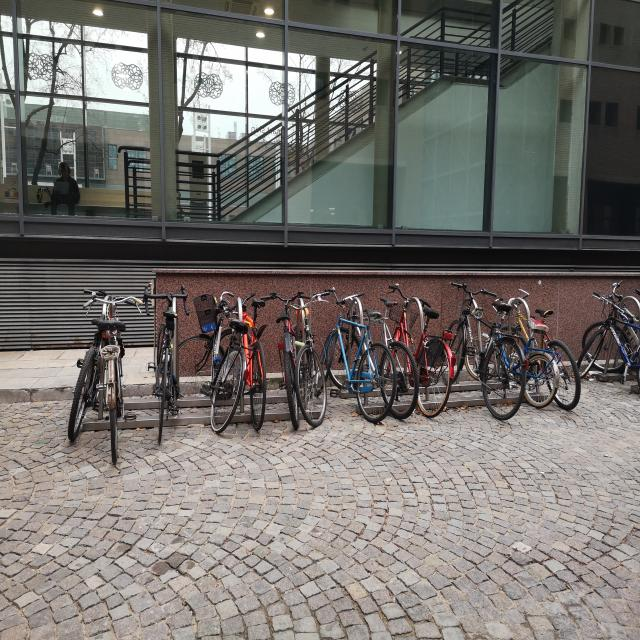Bicycle: (84, 238, 156, 490), (452, 251, 524, 450), (302, 276, 389, 426), (580, 254, 640, 427), (138, 261, 189, 455), (388, 274, 449, 416), (516, 290, 580, 424), (356, 294, 420, 420), (197, 269, 237, 454), (493, 294, 552, 416), (71, 268, 107, 462), (274, 290, 304, 482), (240, 277, 262, 438), (300, 294, 323, 438)
